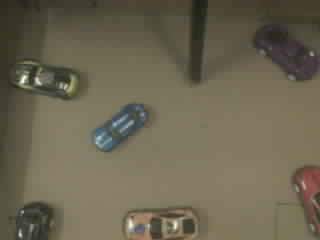Car: (255, 25, 319, 79), (94, 104, 146, 151), (125, 208, 198, 239), (13, 61, 77, 96), (295, 166, 319, 233), (17, 203, 51, 239)
